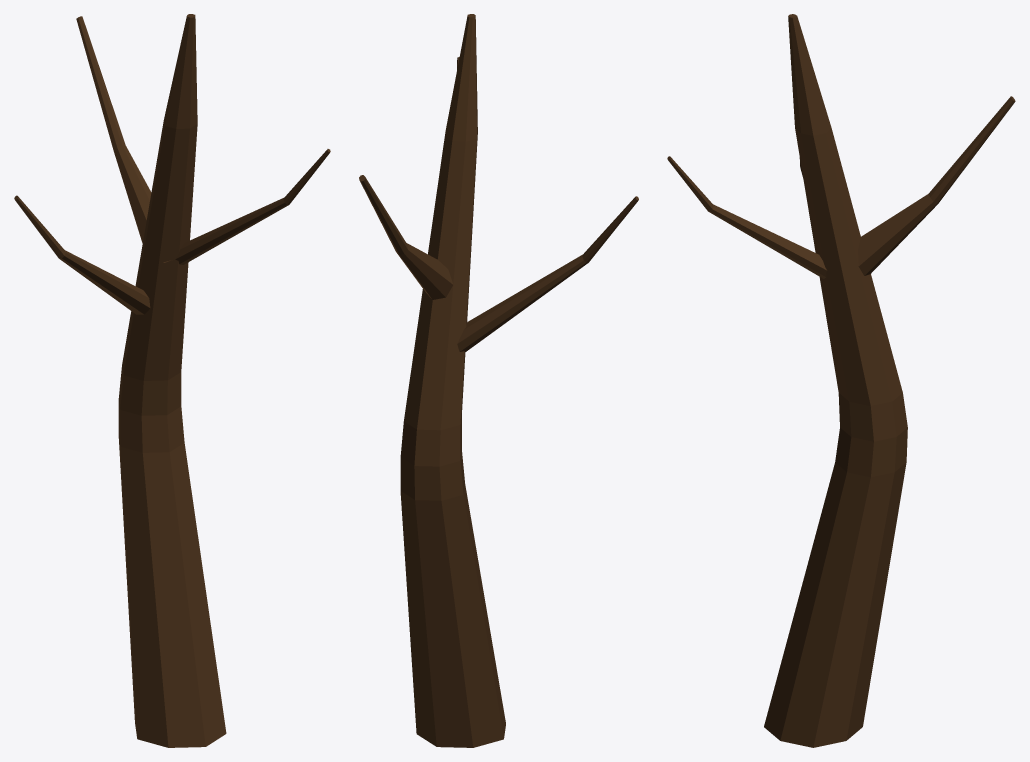
File: Wood 001.fbx
3 renders of one model, left to right at view 1: azimuth 30°, elevation 25°; view 2: azimuth 150°, elevation 25°; view 3: azimuth 270°, elevation 25°, orthographic. The views are drawn at different scales.
Visible parts, largest first — view 1: Tree 001; view 2: Tree 001; view 3: Tree 001.
Boxes of the visible parts, left/top/right/bottom form: Tree 001: left=14, top=14, right=330, bottom=747; Tree 001: left=359, top=14, right=638, bottom=747; Tree 001: left=667, top=14, right=1015, bottom=747.
Bounding box in the file's own units: 166 × 456 × 202.
